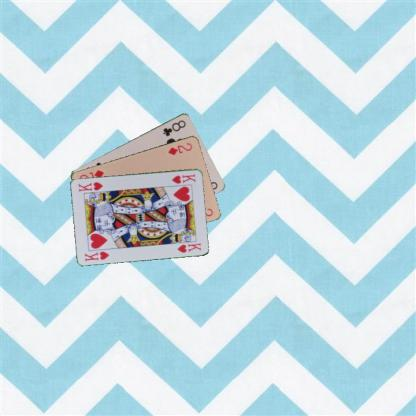2d: (165, 140, 194, 156)
8c: (161, 118, 187, 138)
Kh: (169, 171, 197, 185), (82, 248, 110, 262)
